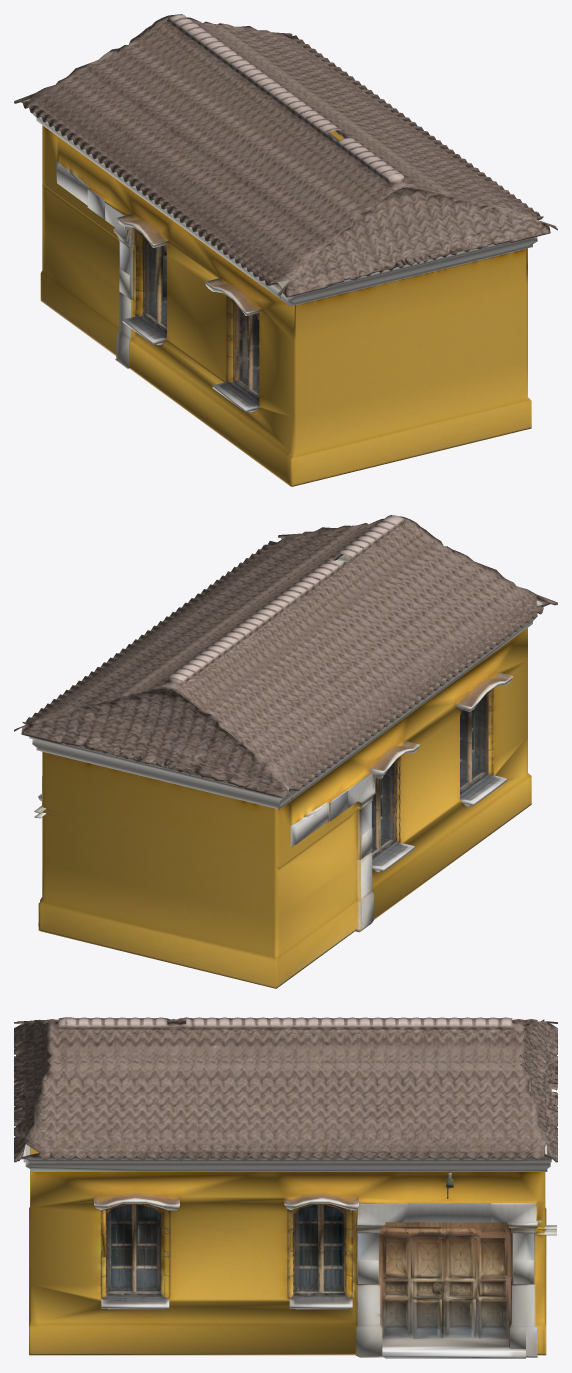
The model's file is tripo_convert_788b5121-7d52-4864-a165-dee1f4e1334f.fbx.
3 views of the same model, one above another, from view 1: azimuth 30°, elevation 25°; view 2: azimuth 150°, elevation 25°; view 3: azimuth 270°, elevation 25° (orthographic). The views are drawn at different scales.
Parts seen in each view (by area): view 1: tripo_node_788b5121; view 2: tripo_node_788b5121; view 3: tripo_node_788b5121.
Part boxes in pixels (x1,y1,x2,y2): tripo_node_788b5121: (14,14,557,486); tripo_node_788b5121: (14,515,557,988); tripo_node_788b5121: (14,1017,557,1358).
Size of the model in its own units: 0.6006 by 0.5595 by 0.9997.
